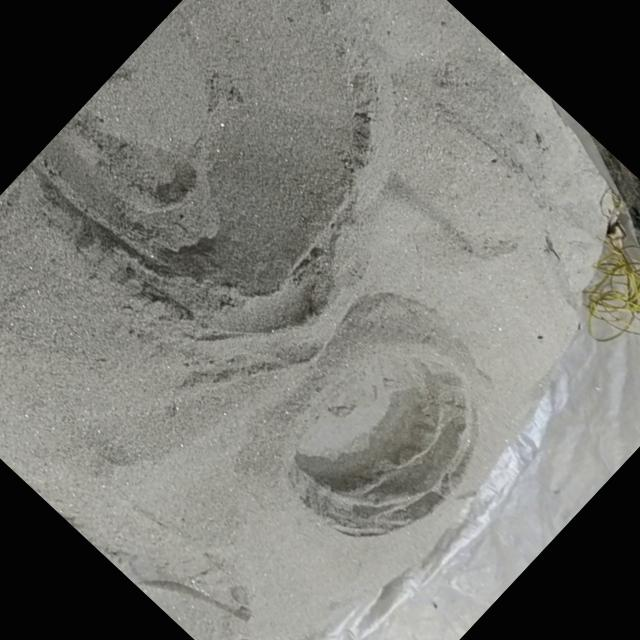C20: (32, 0, 374, 338), (292, 351, 474, 533)
